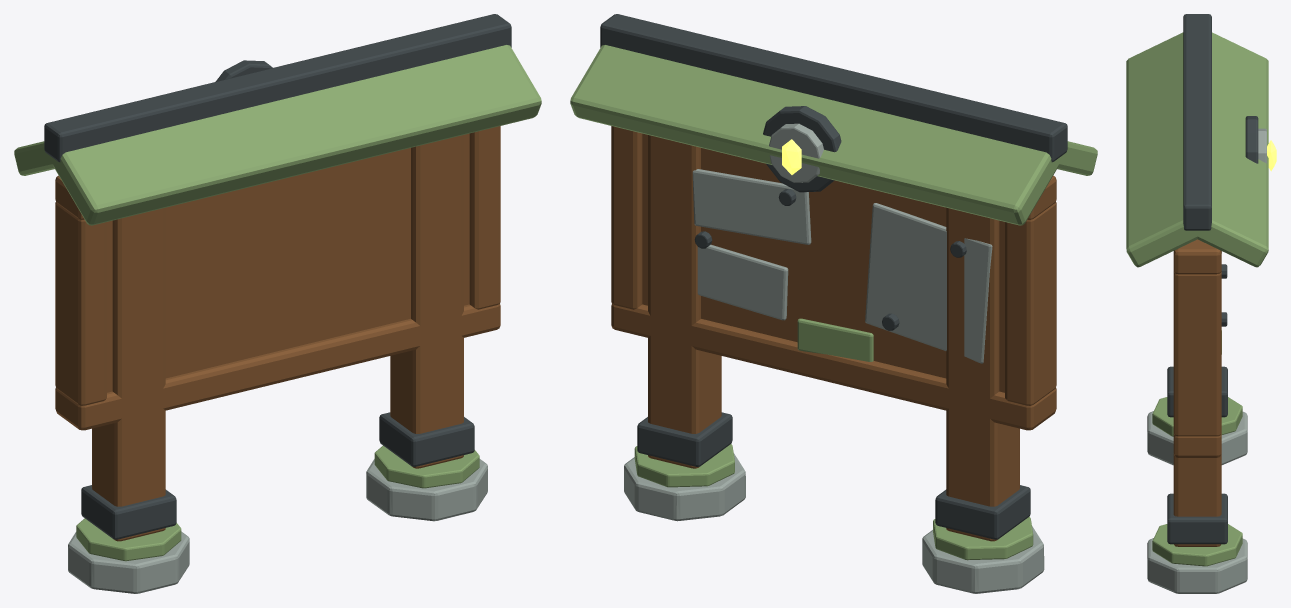
The model's file is SM_EmbermereFenwatchNoticeBoard_01.fbx.
3 renders of one model, left to right at view 1: azimuth 30°, elevation 25°; view 2: azimuth 150°, elevation 25°; view 3: azimuth 270°, elevation 25°, orthographic. The views are drawn at different scales.
Parts seen in each view (by area): view 1: SM_EmbermereFenwatchNoticeBoard_01; view 2: SM_EmbermereFenwatchNoticeBoard_01; view 3: SM_EmbermereFenwatchNoticeBoard_01.
Boxes of the visible parts, x1=… form: SM_EmbermereFenwatchNoticeBoard_01: x1=14, y1=14, x2=541, y2=593; SM_EmbermereFenwatchNoticeBoard_01: x1=570, y1=14, x2=1097, y2=593; SM_EmbermereFenwatchNoticeBoard_01: x1=1126, y1=14, x2=1276, y2=593.
Size of what is drawn, in the model's own units: 286 by 93.93 by 277.
